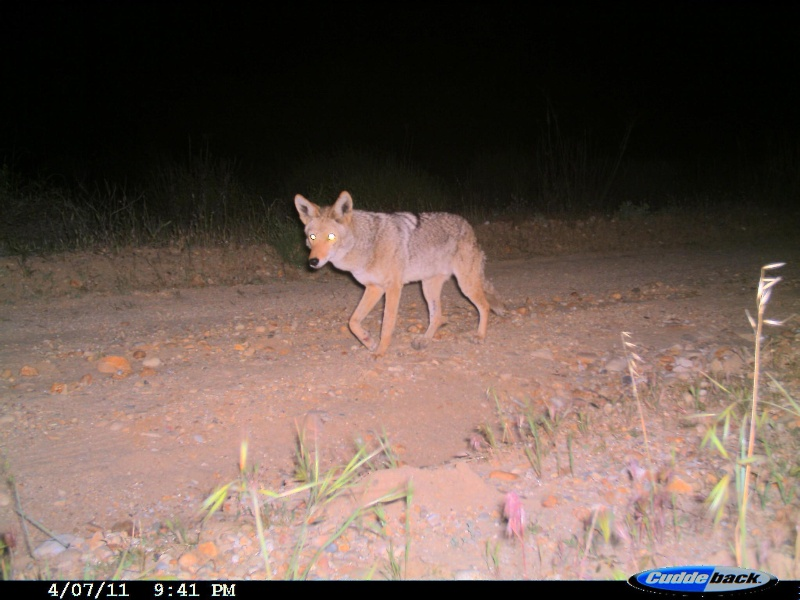coyote: (294, 191, 512, 348)
